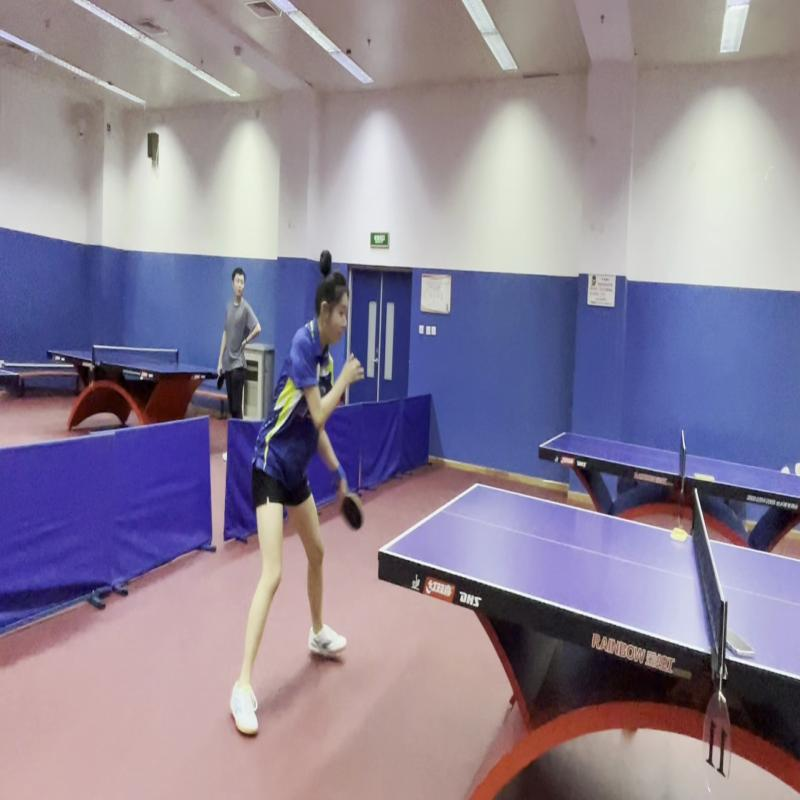bats: (340, 483, 372, 538)
